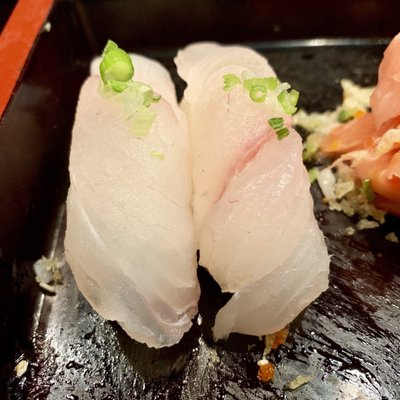soup: (42, 22, 328, 386)
